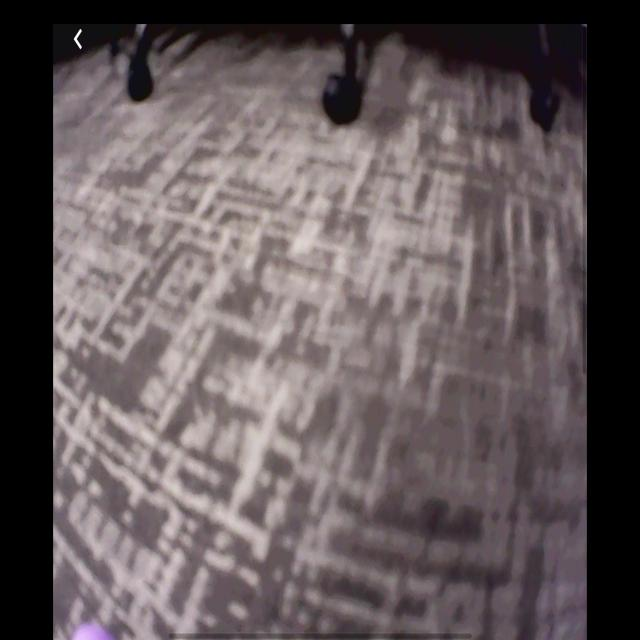ball: (71, 620, 114, 639)
